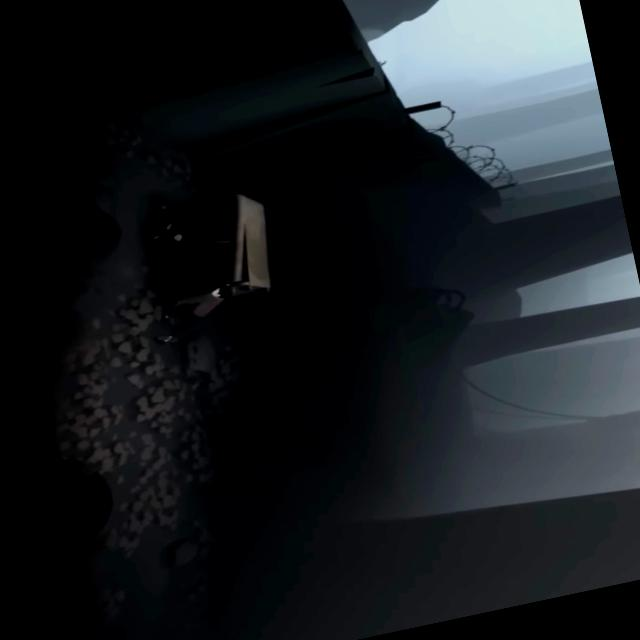boy: (155, 282, 245, 344)
